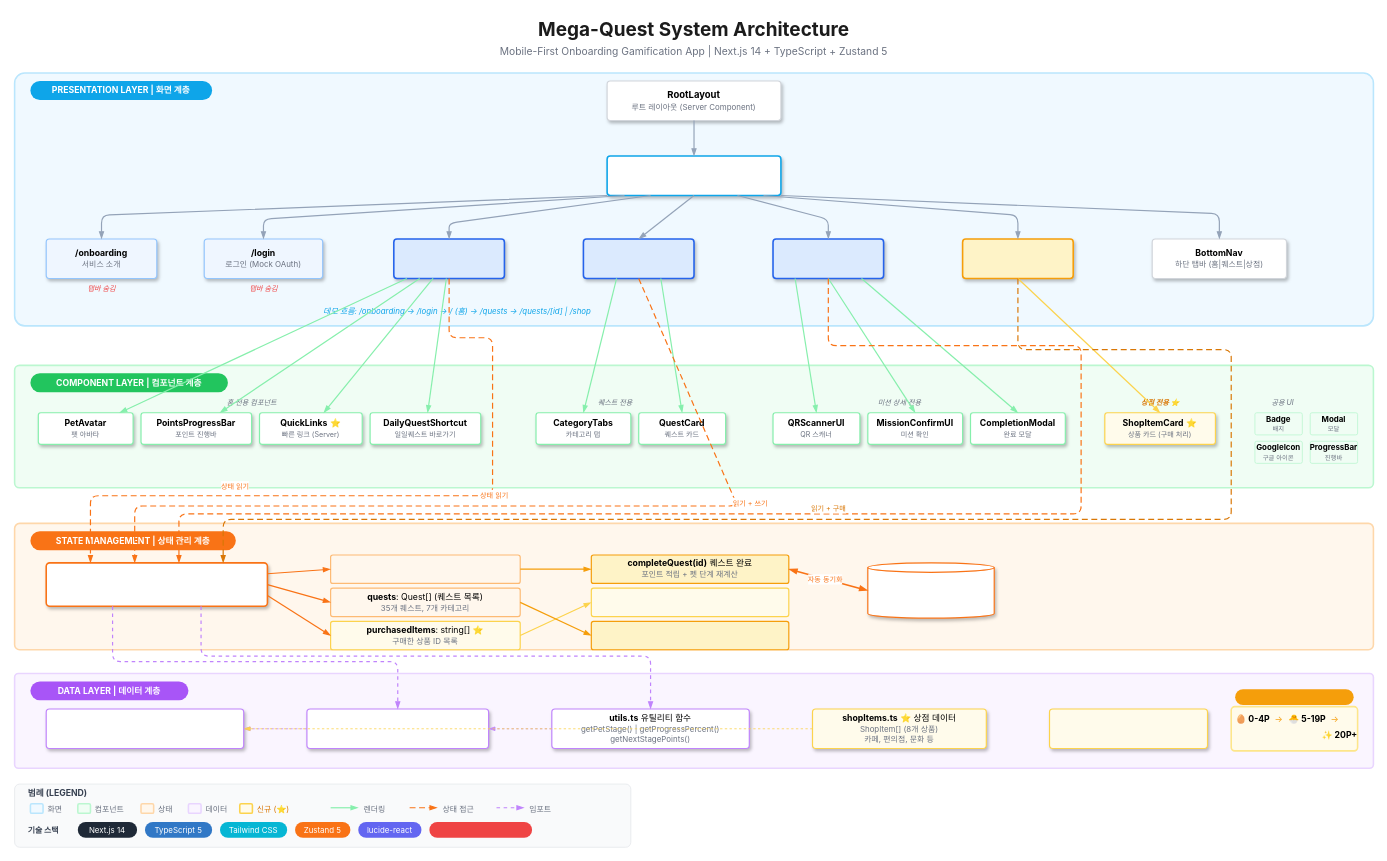
Image size: 1387x861. Some labels were removed from this diagram. Each missing label, with the centre of its shape:
/ Home 홈 대시보드: (x=449, y=259)
/quests 퀘스트 로드맵: (x=639, y=259)
/quests/[id] 미션 상세: (x=829, y=259)
/shop ⭐ 포인트 상점: (x=1018, y=259)
localStorage 로컬 저장소 mega-quest-storage v7: (x=931, y=591)
mockData.ts 목업 데이터 초기 사용자 | 35개 퀘스트 펫 단계 설정 (3단계): (x=398, y=729)
NavWrapper 네비게이션 래퍼 (조건부 렌더링): (x=694, y=176)
PET EVOLUTION | 펫 성장: (x=1294, y=697)
purchaseItem(id, cost) ⭐ 상품 교환 포인트 차감 + 구매 목록 추가: (x=689, y=602)
quickLinks.ts ⭐ 빠른 링크 QuickLink[] (6개) Megaone, HRD 등: (x=1128, y=729)
resetGame() 게임 초기화 전체 상태 초기값으로 리셋: (x=689, y=635)
types.ts 타입 정의 User | Quest | ShopItem | QuickLink: (x=145, y=729)
useGameStore 게임 스토어 (Zustand 5 + persist v7): (x=157, y=585)
user : User (사용자 정보) { points, petStage, name, title }: (x=425, y=569)
클라이언트 전용 MVP: (x=480, y=829)
